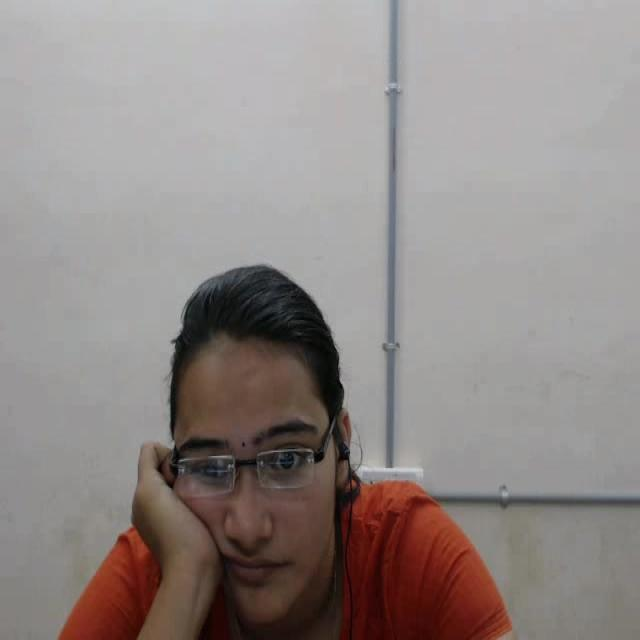Bored: (105, 250, 411, 640)
